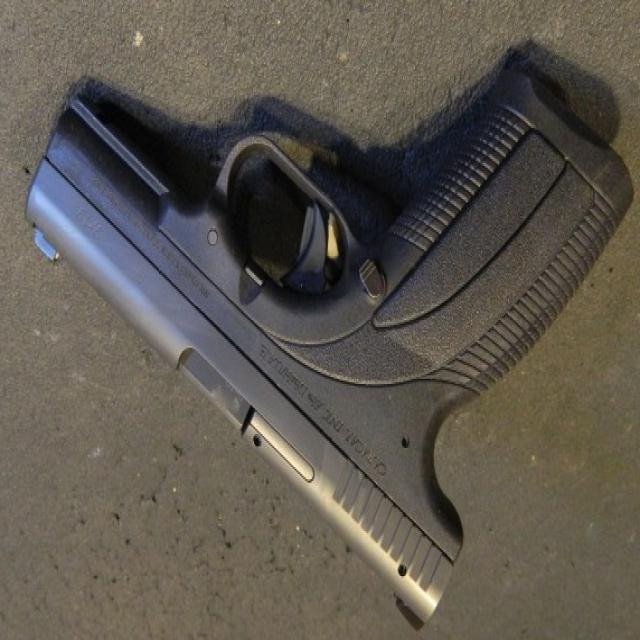Gun: (21, 15, 620, 639)
